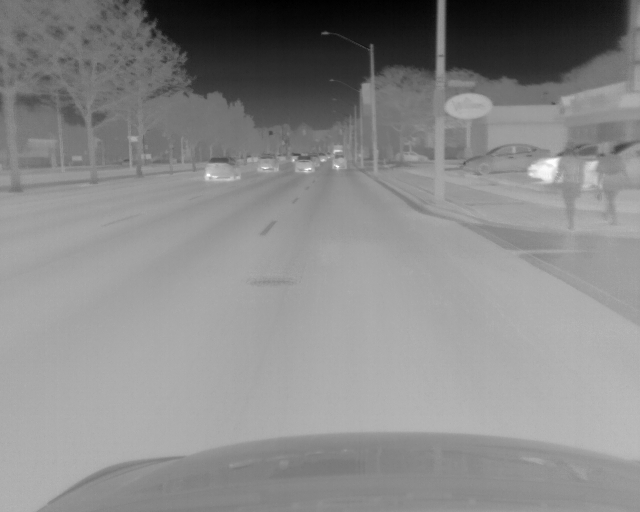car: (527, 144, 620, 191), (462, 143, 551, 176), (609, 142, 640, 191), (205, 157, 241, 181), (393, 150, 428, 164), (256, 154, 279, 173), (293, 156, 315, 173), (331, 152, 346, 170), (311, 155, 319, 168), (317, 153, 327, 163), (291, 153, 302, 161)
people: (553, 142, 585, 231), (594, 141, 627, 224)
